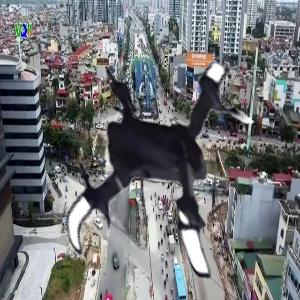drone: (31, 25, 296, 290)
